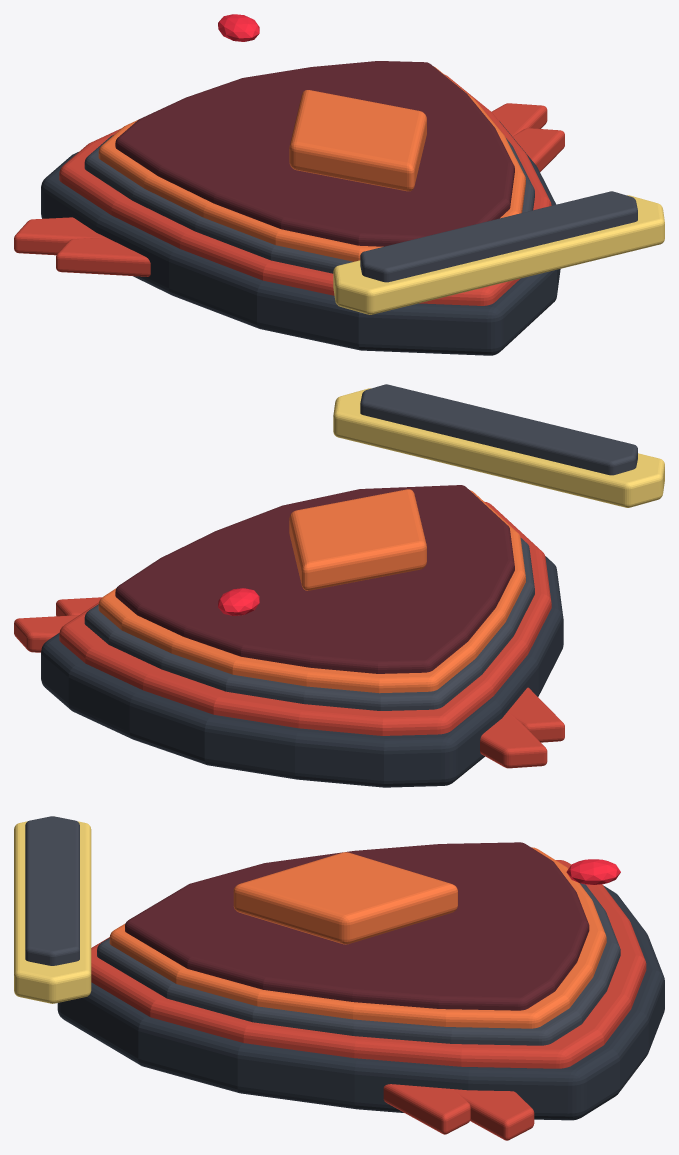
Rendered from elite_3.glb.
3 views of the same model, one above another, from view 1: azimuth 30°, elevation 25°; view 2: azimuth 150°, elevation 25°; view 3: azimuth 270°, elevation 25° (orthographic). The views are drawn at different scales.
Visible parts, largest first — view 1: SHIELD_FACE.004, SHIELD_BACK.004, NAMEPLATE_FRAME.004, ELITE_III_DIAMOND, NAMEPLATE_BLANK.004, SHIELD_FRAME.004, ACCENT_FRAME.001, SHIELD_DARK_TRIM.004, BLADE_L_1.002, BLADE_L_0.003, BLADE_R_1.002, BLADE_R_0.003 (+1 smaller); view 2: SHIELD_FACE.004, SHIELD_BACK.004, SHIELD_FRAME.004, NAMEPLATE_FRAME.004, ELITE_III_DIAMOND, ACCENT_FRAME.001, NAMEPLATE_BLANK.004, SHIELD_DARK_TRIM.004, BLADE_L_0.003, BLADE_L_1.002, BLADE_R_0.003, ELITE_III_TOP_GEM (+1 smaller); view 3: SHIELD_FACE.004, SHIELD_BACK.004, SHIELD_FRAME.004, ELITE_III_DIAMOND, ACCENT_FRAME.001, SHIELD_DARK_TRIM.004, NAMEPLATE_BLANK.004, NAMEPLATE_FRAME.004, BLADE_R_1.002, BLADE_R_0.003, ELITE_III_TOP_GEM.
Boxes of the visible parts, <box> form: SHIELD_FACE.004: <box>115,61,514,246</box>; SHIELD_BACK.004: <box>41,121,560,355</box>; NAMEPLATE_FRAME.004: <box>333,195,664,314</box>; ELITE_III_DIAMOND: <box>289,90,426,191</box>; NAMEPLATE_BLANK.004: <box>360,191,637,282</box>; SHIELD_FRAME.004: <box>59,74,551,305</box>; ACCENT_FRAME.001: <box>98,66,525,261</box>; SHIELD_DARK_TRIM.004: <box>84,134,534,273</box>; BLADE_L_1.002: <box>56,238,150,276</box>; BLADE_L_0.003: <box>14,217,106,255</box>; BLADE_R_1.002: <box>512,128,564,171</box>; BLADE_R_0.003: <box>491,103,547,136</box>; SHIELD_FACE.004: <box>115,485,514,673</box>; SHIELD_BACK.004: <box>41,556,563,787</box>; SHIELD_FRAME.004: <box>59,501,551,735</box>; NAMEPLATE_FRAME.004: <box>333,388,664,507</box>; ELITE_III_DIAMOND: <box>289,489,426,590</box>; ACCENT_FRAME.001: <box>98,490,525,693</box>; NAMEPLATE_BLANK.004: <box>360,384,637,475</box>; SHIELD_DARK_TRIM.004: <box>84,538,534,710</box>; BLADE_L_0.003: <box>480,712,547,768</box>; BLADE_L_1.002: <box>507,687,564,742</box>; BLADE_R_0.003: <box>14,615,78,652</box>; ELITE_III_TOP_GEM: <box>218,588,259,615</box>; SHIELD_FACE.004: <box>125,842,589,1010</box>; SHIELD_BACK.004: <box>57,885,664,1120</box>; SHIELD_FRAME.004: <box>91,860,646,1068</box>; ELITE_III_DIAMOND: <box>233,852,457,944</box>; ACCENT_FRAME.001: <box>109,847,606,1028</box>; SHIELD_DARK_TRIM.004: <box>97,883,620,1045</box>; NAMEPLATE_BLANK.004: <box>25,816,79,965</box>; NAMEPLATE_FRAME.004: <box>14,821,91,1003</box>; BLADE_R_1.002: <box>383,1084,470,1134</box>; BLADE_R_0.003: <box>452,1089,534,1140</box>; ELITE_III_TOP_GEM: <box>566,859,620,884</box>.
Size of the model in its own units: 3.97 by 1.08 by 4.04.
